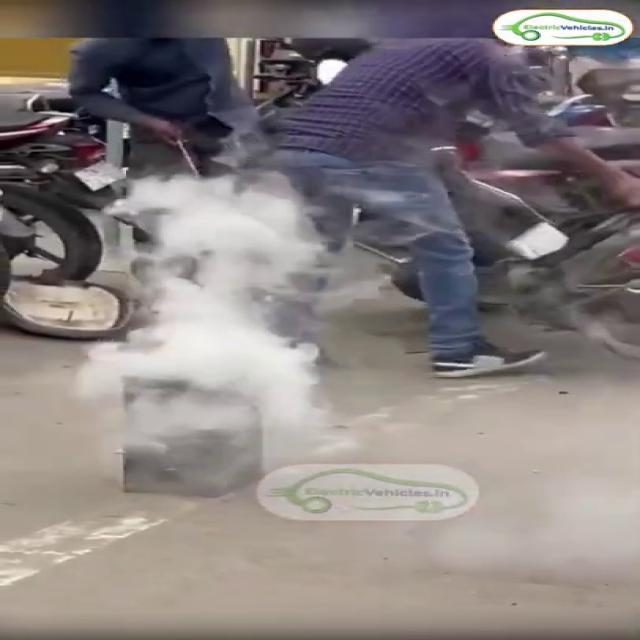Smoke: (73, 159, 362, 488)
